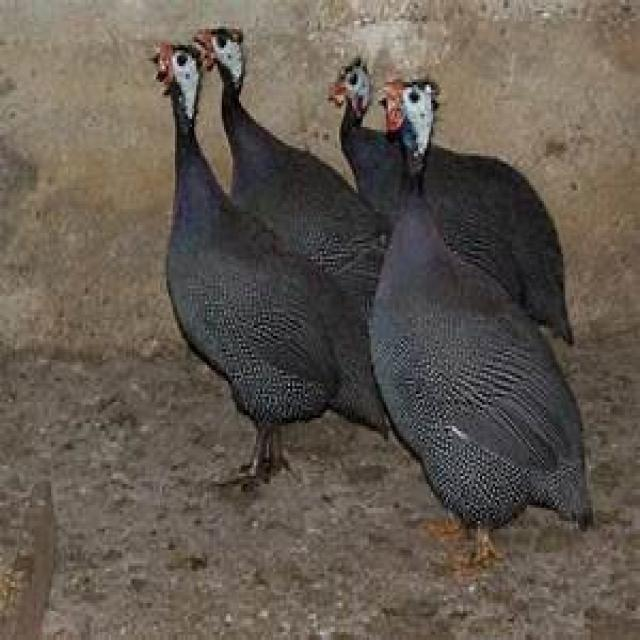hen: (160, 45, 386, 472), (375, 85, 582, 523), (214, 34, 381, 306)
